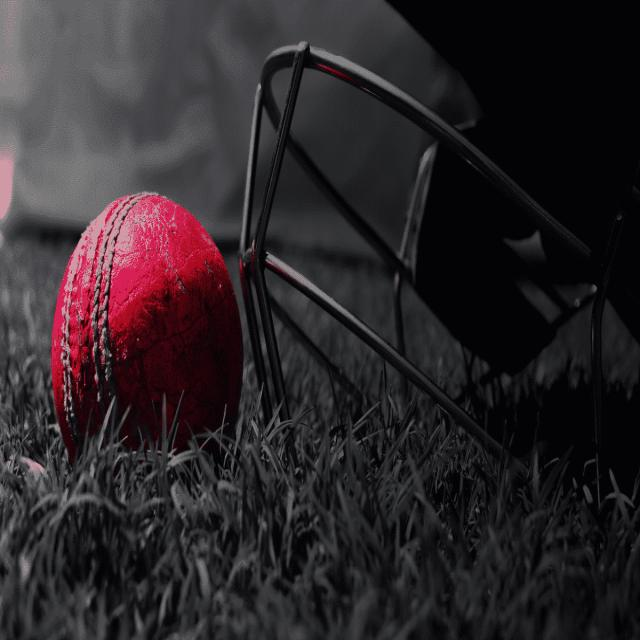ball: (44, 192, 245, 479)
